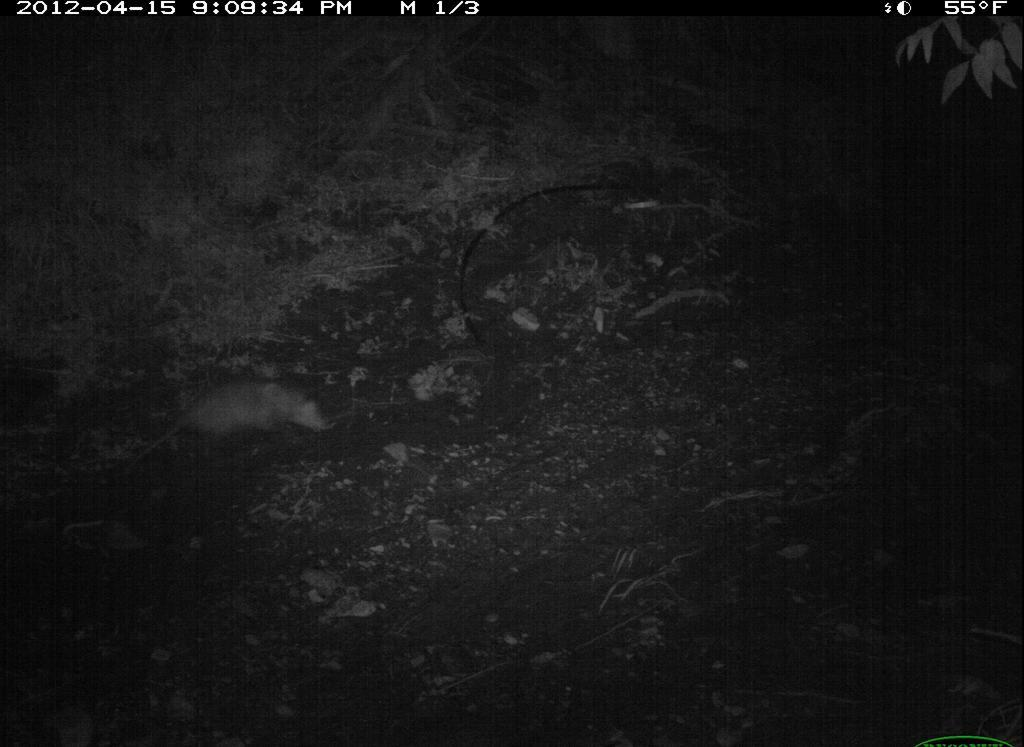opossum: (108, 372, 349, 488)
